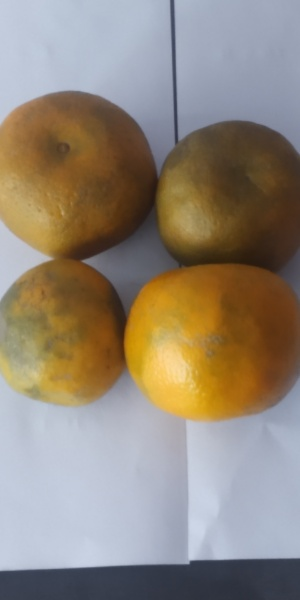BAD: (124, 258, 300, 424), (5, 90, 157, 262), (161, 121, 300, 267), (1, 259, 129, 408)
